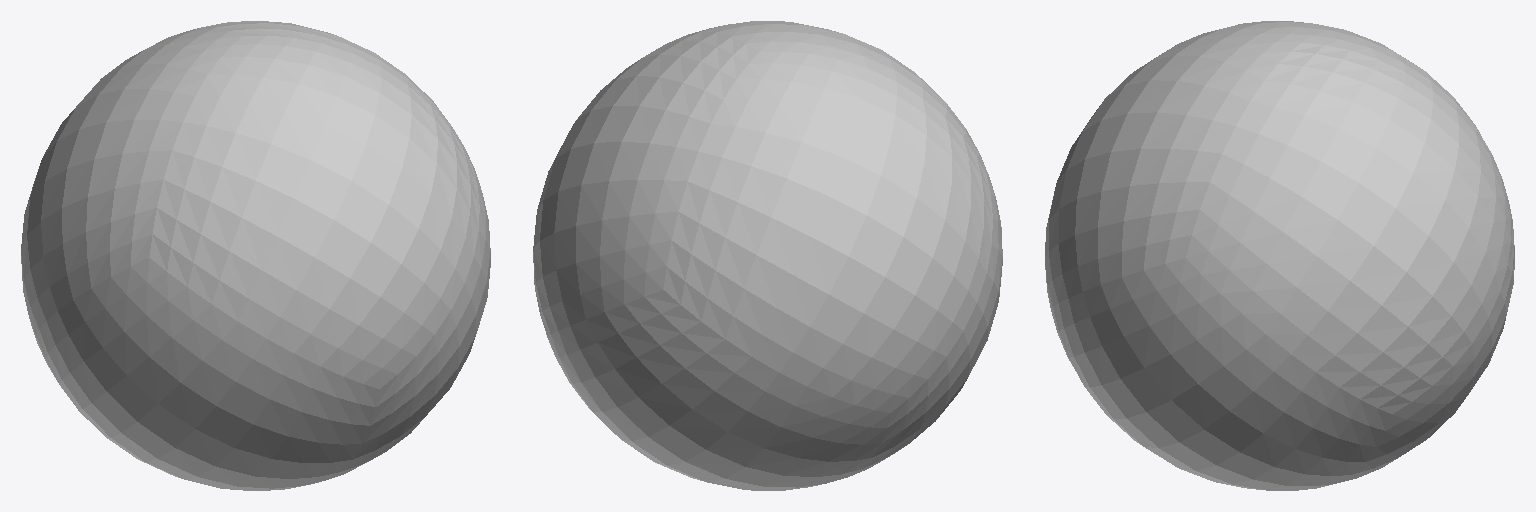
File: Body_high.obj
3 renders of one model, left to right at view 1: azimuth 30°, elevation 25°; view 2: azimuth 150°, elevation 25°; view 3: azimuth 270°, elevation 25°, orthographic.
Parts seen in each view (by area): view 1: Box001; view 2: Box001; view 3: Box001.
Part boxes in pixels (bbox=[...]): Box001: bbox=[21, 21, 490, 490]; Box001: bbox=[533, 21, 1002, 490]; Box001: bbox=[1045, 21, 1514, 490].
Bounding box in the file's own units: 7.64 × 7.64 × 7.64.